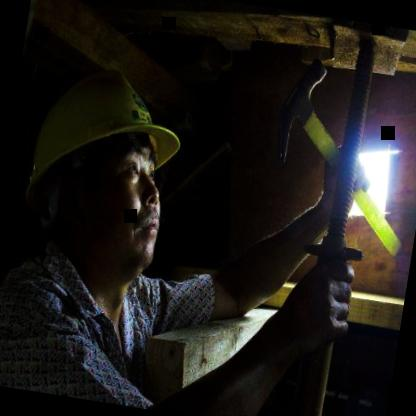helmet: (0, 36, 219, 313)
